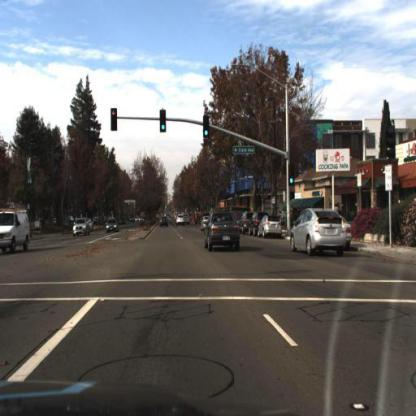car: (289, 204, 346, 252), (203, 210, 242, 252), (1, 208, 31, 257), (257, 212, 285, 239), (257, 215, 284, 238), (70, 214, 91, 241), (71, 217, 92, 239), (248, 211, 261, 238), (105, 216, 121, 234), (157, 213, 172, 232), (198, 214, 210, 237), (240, 210, 250, 235), (289, 161, 297, 191), (175, 213, 187, 230)
trafficLight-Green: (202, 113, 214, 144), (161, 108, 169, 133), (203, 125, 211, 142), (288, 176, 297, 190), (159, 120, 167, 135)
trafficLight-Red: (110, 107, 118, 125)
trafficLight-RedLeft: (110, 104, 119, 137)
